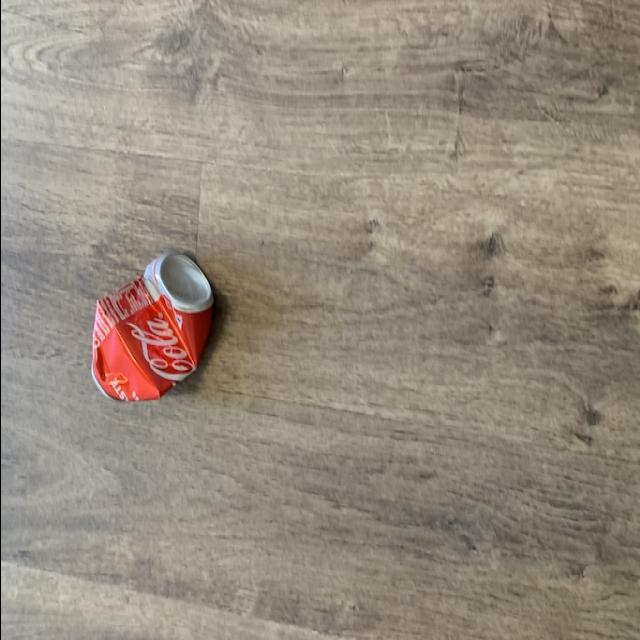Aluminum Can: (84, 238, 218, 408)
